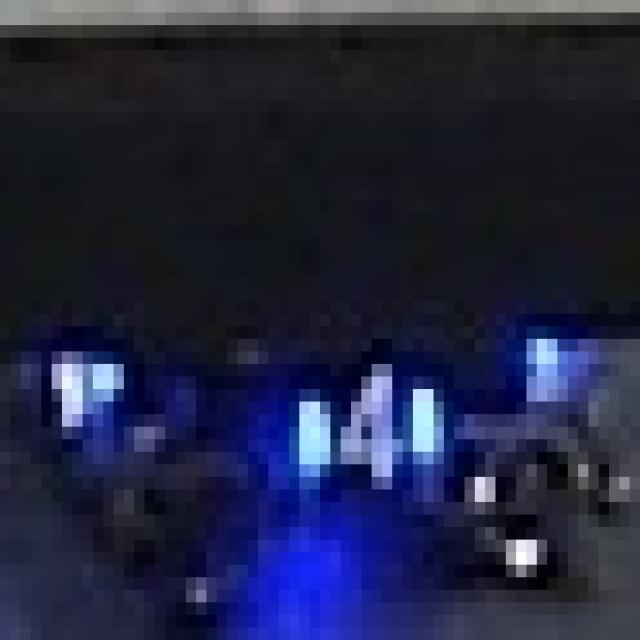B4: (289, 339, 454, 489)
